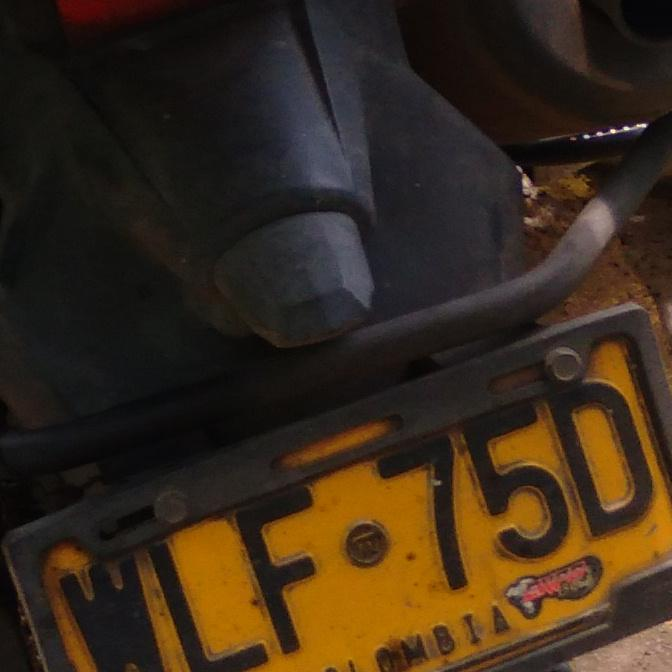plates: (0, 290, 672, 672)
